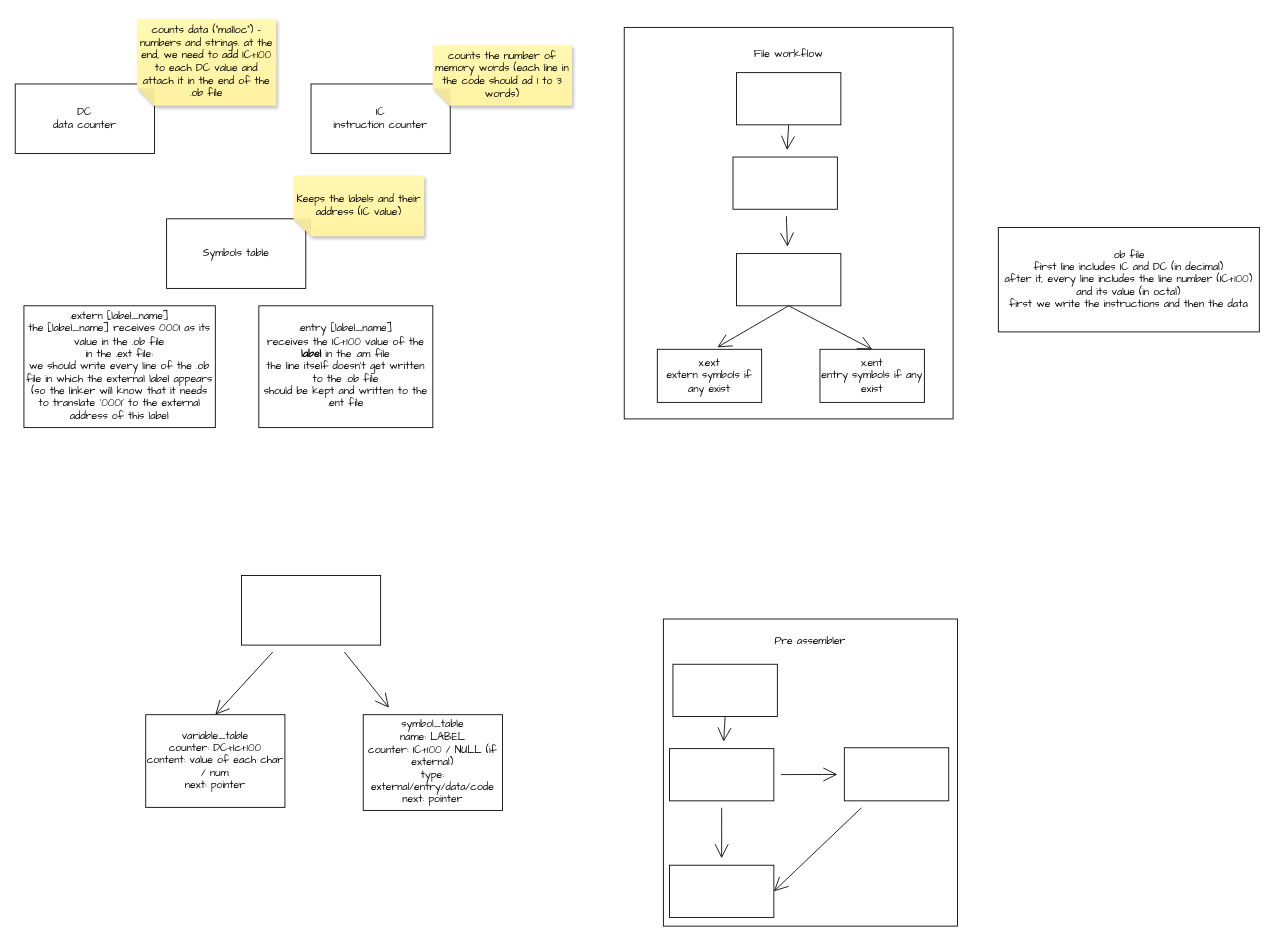
Image size: 1275x941. Some labels were removed from this diagram. The centre of each missing label's shape, as x and y in pixels:
Create macro-table: [724,689]
Create new file without macros: [721,890]
Read file: [721,774]
Structures - symbol_table - variable_table - instructions: [311,610]
Update macro-table: [896,774]
x.am spread macros file: [784,182]
x.as input file: [788,98]
x.ob machine code: [788,279]
